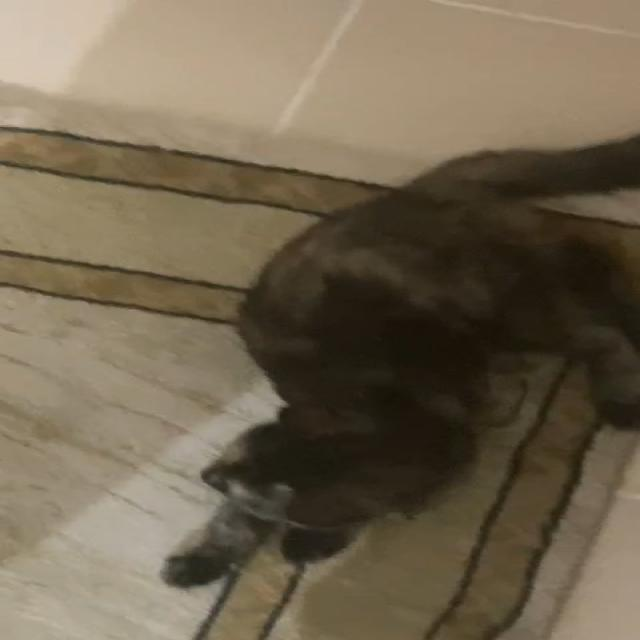authorized: (158, 131, 638, 592)
